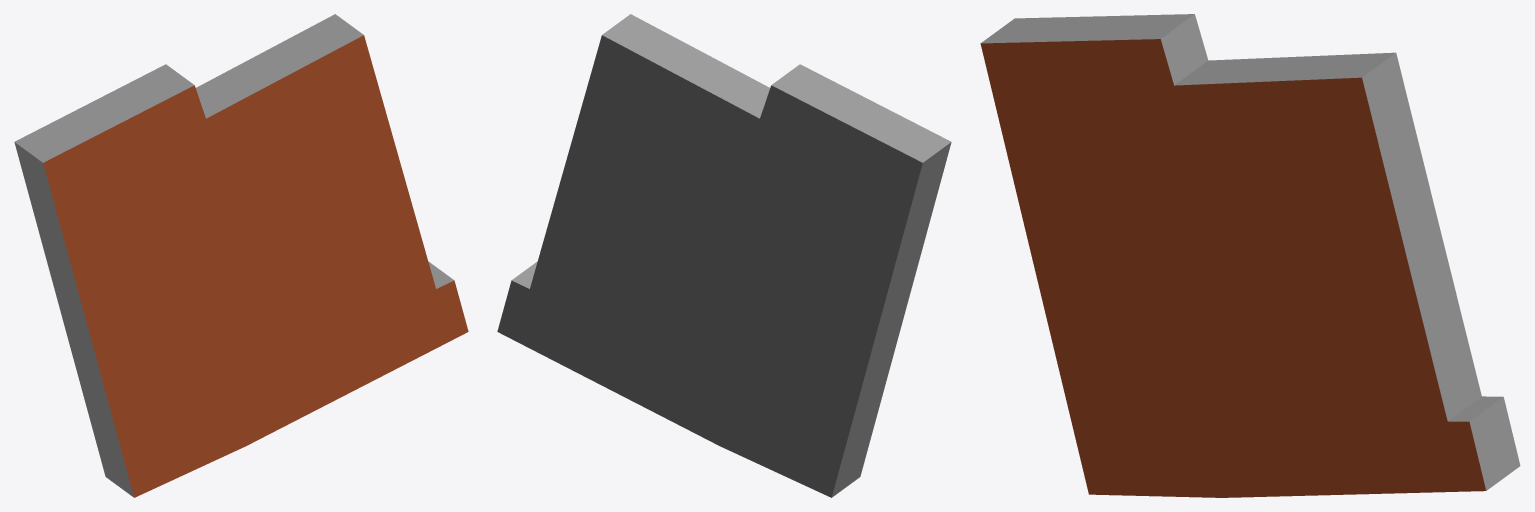
Rendered from construction_2379_assumed_A_Casa_h6m.obj.
3 renders of one model, left to right at view 1: azimuth 30°, elevation 25°; view 2: azimuth 150°, elevation 25°; view 3: azimuth 330°, elevation 25°, orthographic. The views are drawn at different scales.
Parts seen in each view (by area): view 1: construction_2379_assumed_A_Casa; view 2: construction_2379_assumed_A_Casa; view 3: construction_2379_assumed_A_Casa.
Part boxes in pixels (bbox=[...]): construction_2379_assumed_A_Casa: bbox=[14, 14, 468, 497]; construction_2379_assumed_A_Casa: bbox=[497, 14, 951, 497]; construction_2379_assumed_A_Casa: bbox=[980, 14, 1520, 497].
Size of the model in its own units: 51.22 by 46.79 by 6.
